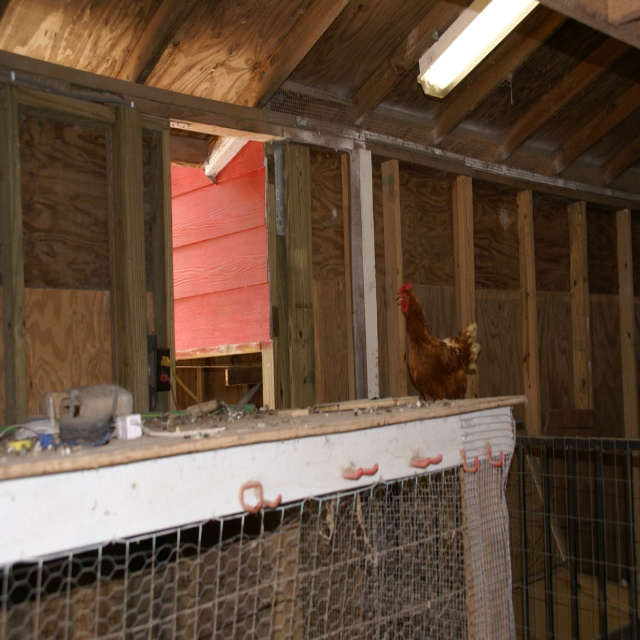Chicken: (396, 281, 482, 400)
